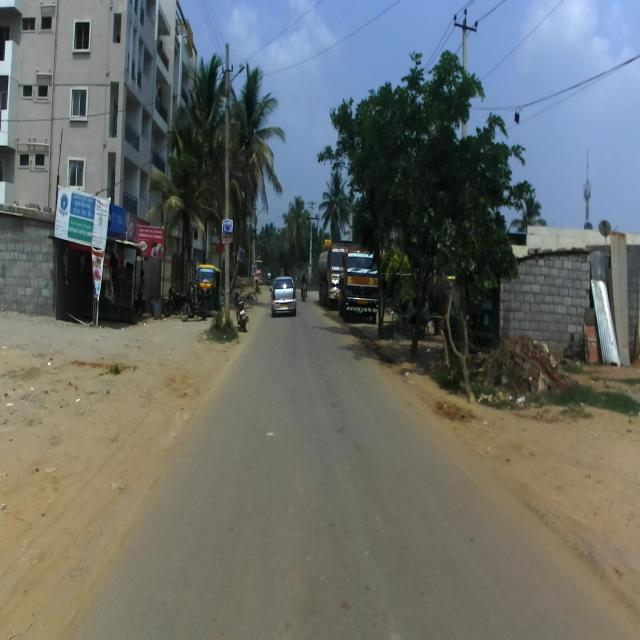electric pole ahead at: (214, 36, 245, 335)
